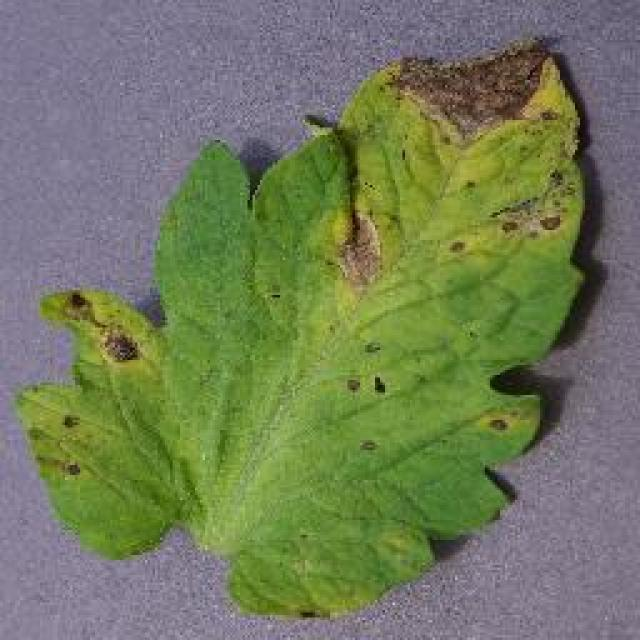Tomato Septoria spot leaf: (17, 34, 589, 624)
